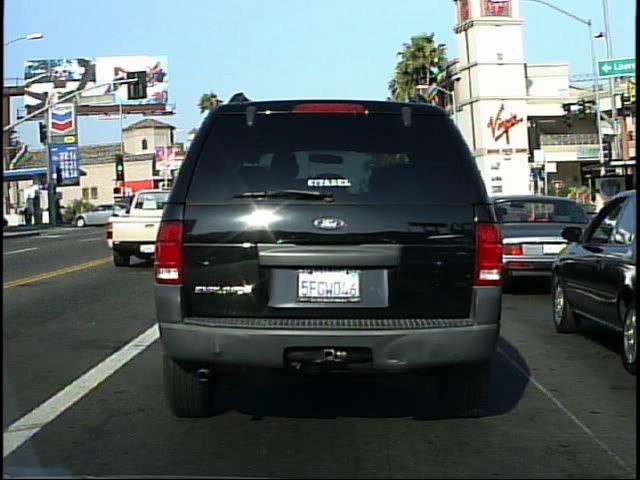person: (588, 185, 610, 242)
